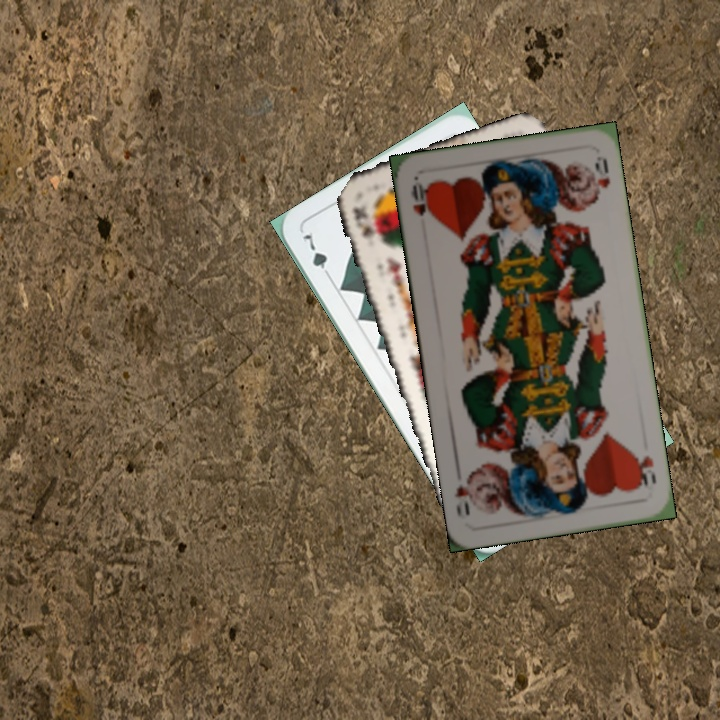G7: (298, 228, 335, 283)
HO: (630, 447, 659, 491), (407, 177, 433, 220)
SK: (349, 202, 385, 249)
